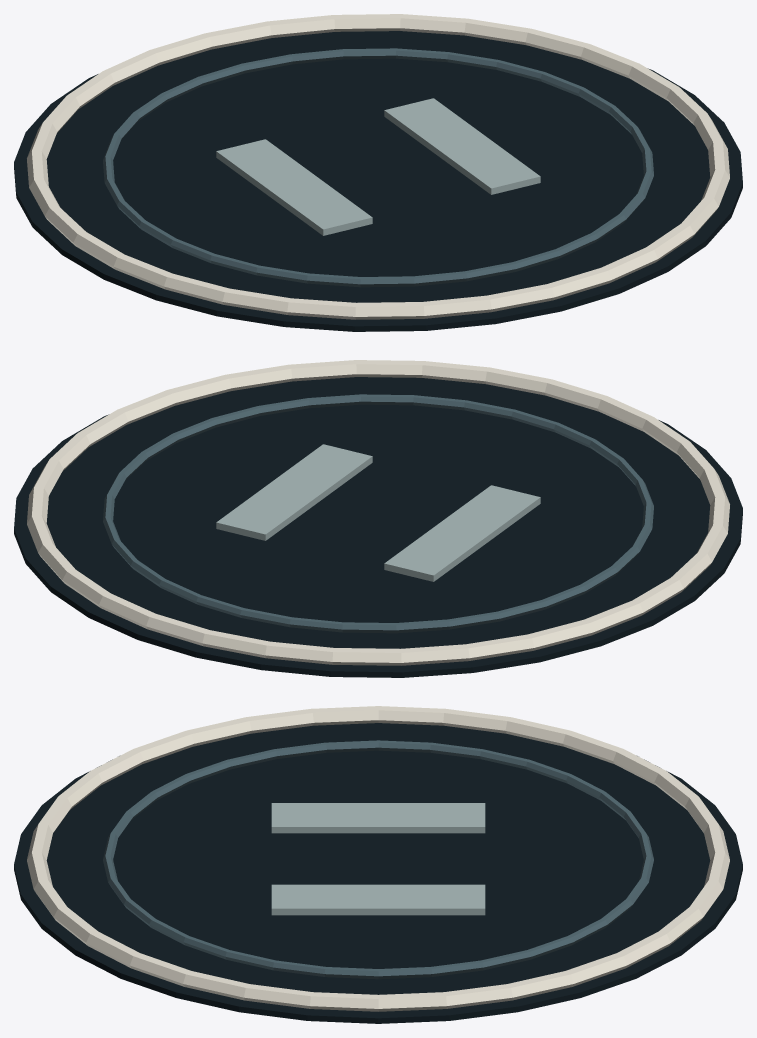
The model's file is gate.glb.
3 views of the same model, one above another, from view 1: azimuth 30°, elevation 25°; view 2: azimuth 150°, elevation 25°; view 3: azimuth 270°, elevation 25° (orthographic).
Parts seen in each view (by area): view 1: gate; view 2: gate; view 3: gate.
Boxes of the visible parts, x1,y1,x2,y2 form: gate: (14,14,742,331); gate: (14,360,742,677); gate: (14,706,742,1023).
Bounding box in the file's own units: 2.56 × 0.0673 × 2.56.
